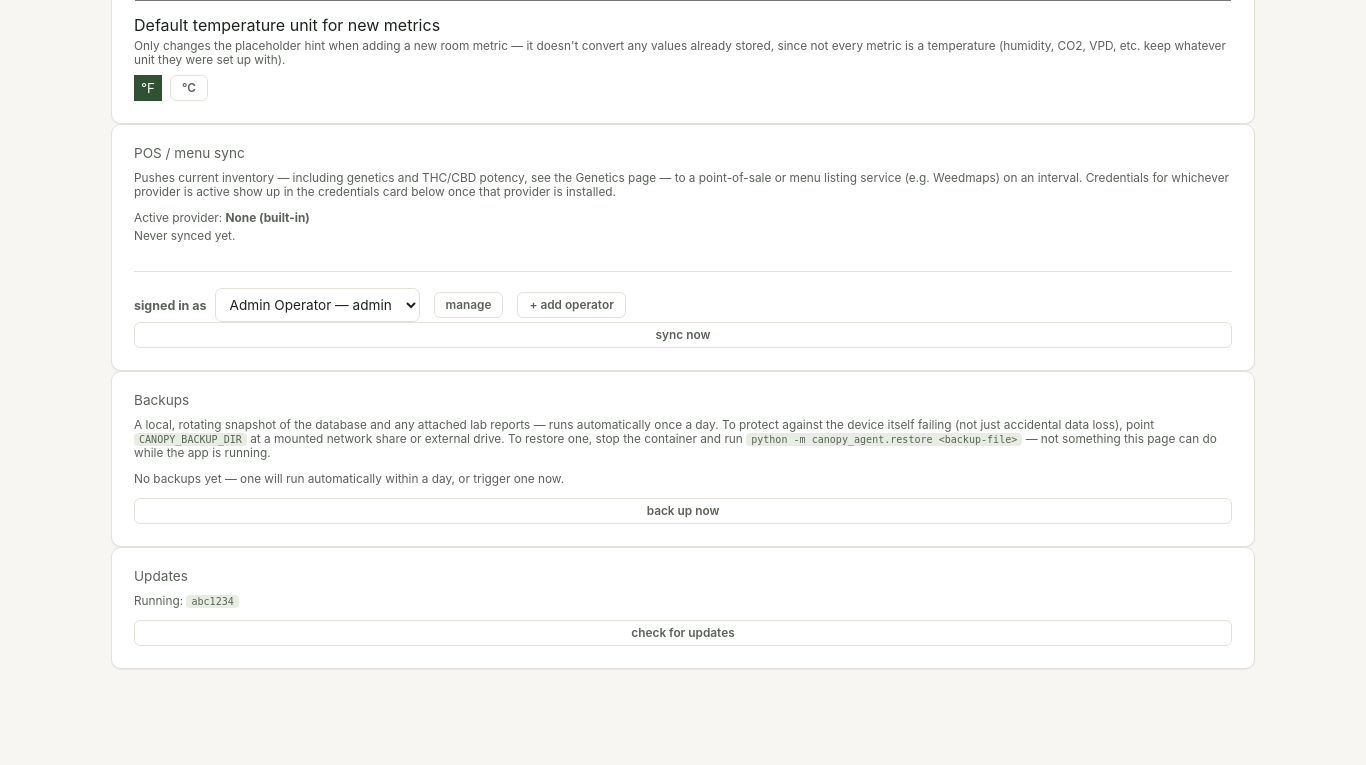
Test case: Settings › updates › shows the running version and lets you check for updates
(page scrolled)
Expected: the text "abc1234" is shown, [186,595,239,608]
Click the button "check for updates": click(683, 633) [134,620,1232,646]
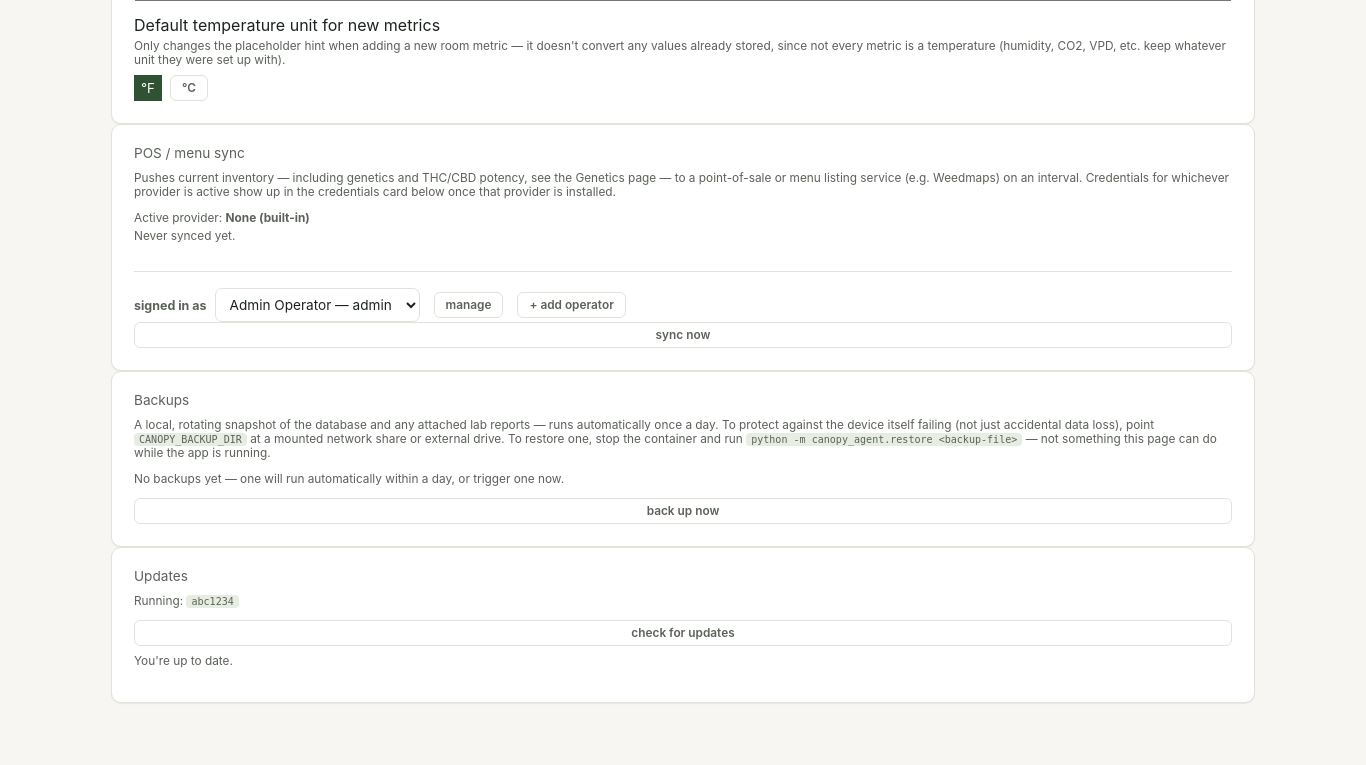
Expected: the text "You're up to date." is shown, [134,654,233,668]
